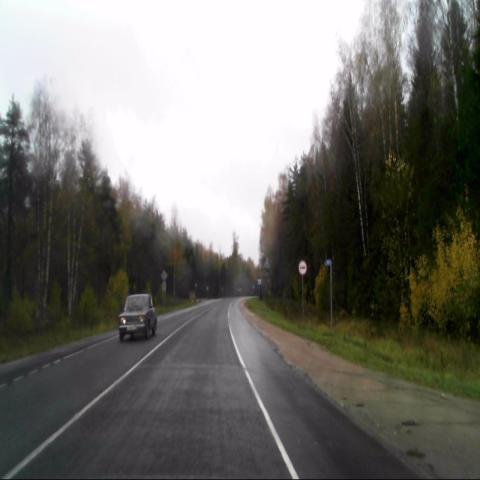3_20: (298, 260, 308, 278)
